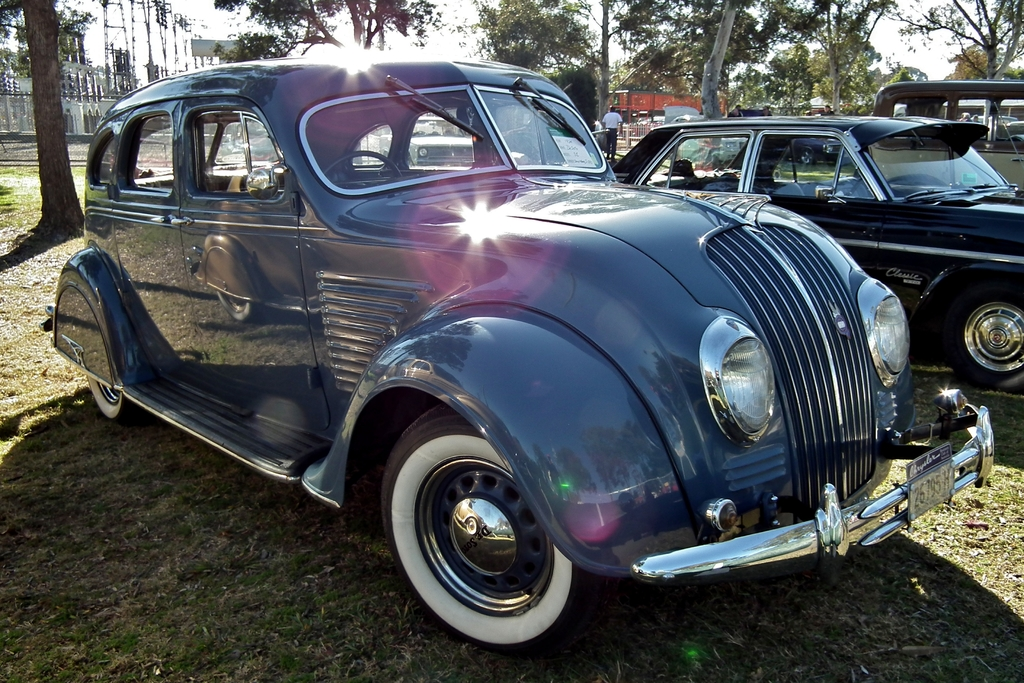mobil: (52, 53, 957, 641)
